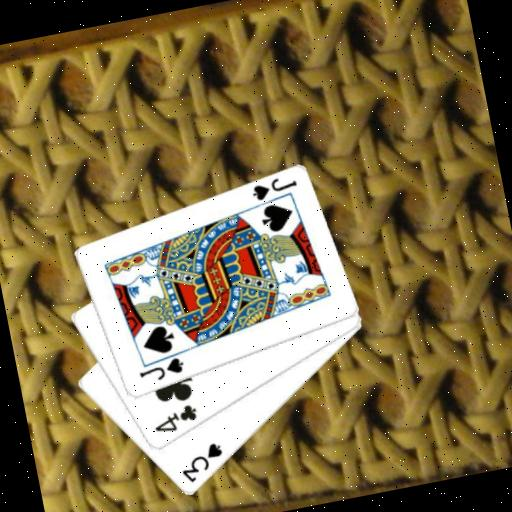3S: (174, 438, 229, 487)
4C: (147, 401, 201, 438)
JS: (134, 353, 188, 386), (247, 172, 300, 204)
